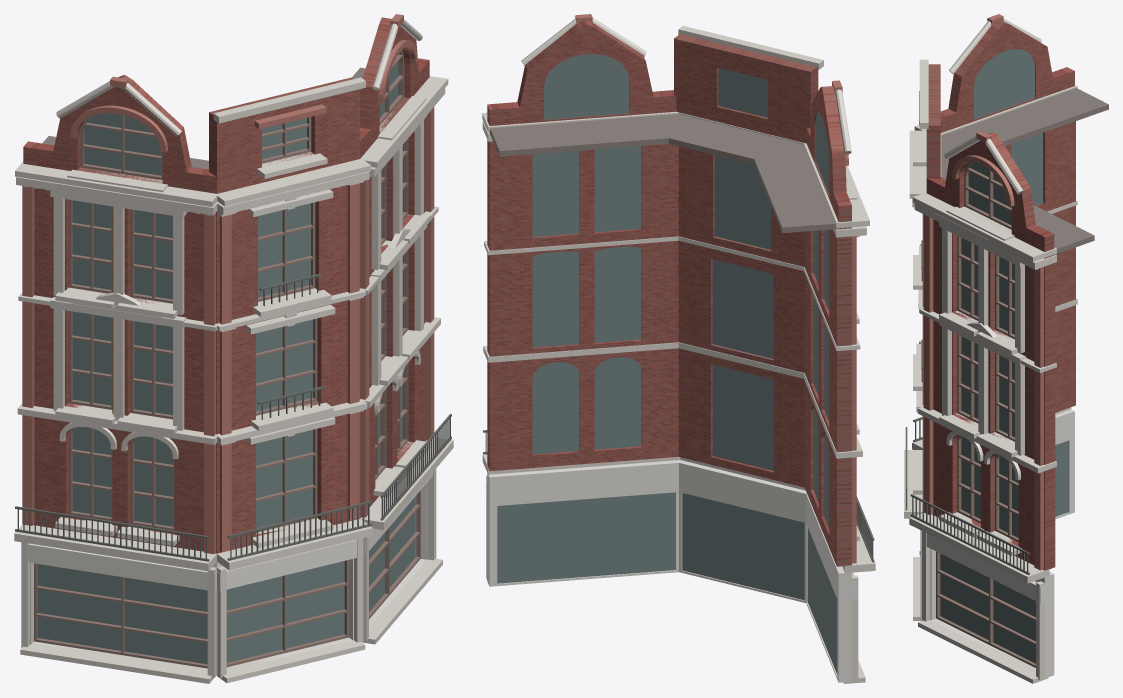
Rendered from huangpu-dianchi-land-investment-corner-web.glb.
3 views of the same model, side by side, from view 1: azimuth 30°, elevation 25°; view 2: azimuth 150°, elevation 25°; view 3: azimuth 270°, elevation 25° (orthographic). The views are drawn at different scales.
Parts seen in each view (by area): view 1: 业广地产公司大楼滇池路与四川中路转角; view 2: 业广地产公司大楼滇池路与四川中路转角; view 3: 业广地产公司大楼滇池路与四川中路转角.
Boxes of the visible parts, <box> form: 业广地产公司大楼滇池路与四川中路转角: <box>14,14,453,683</box>; 业广地产公司大楼滇池路与四川中路转角: <box>482,14,875,683</box>; 业广地产公司大楼滇池路与四川中路转角: <box>904,14,1108,683</box>.
Bounding box in the file's own units: 12.96 × 17.03 × 6.11.
Materials: 8 (1 with a texture image).
